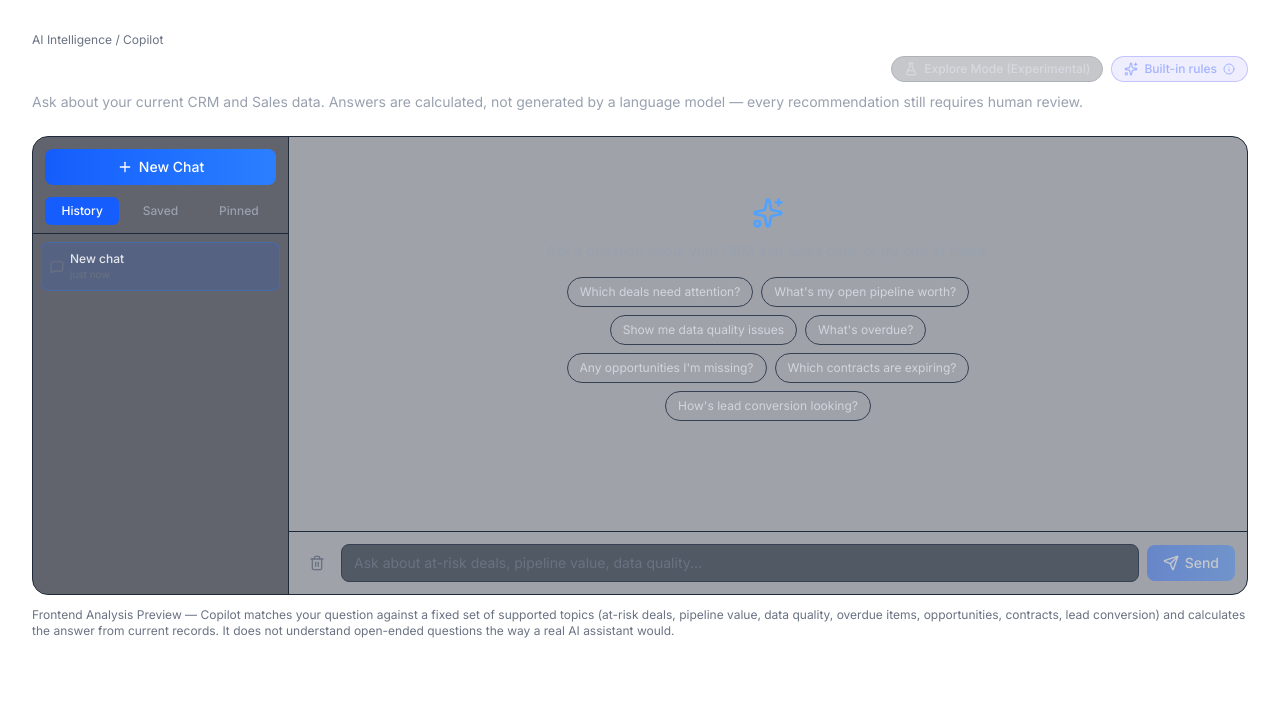
Test: AiCopilot — chat route rendering and behavior › clicking a suggested prompt sends it and shows both the question and an answer
This screenshot has width=1280, height=720.
Click the button "Which deals need attention?": [660, 292] box [567,277,753,307]
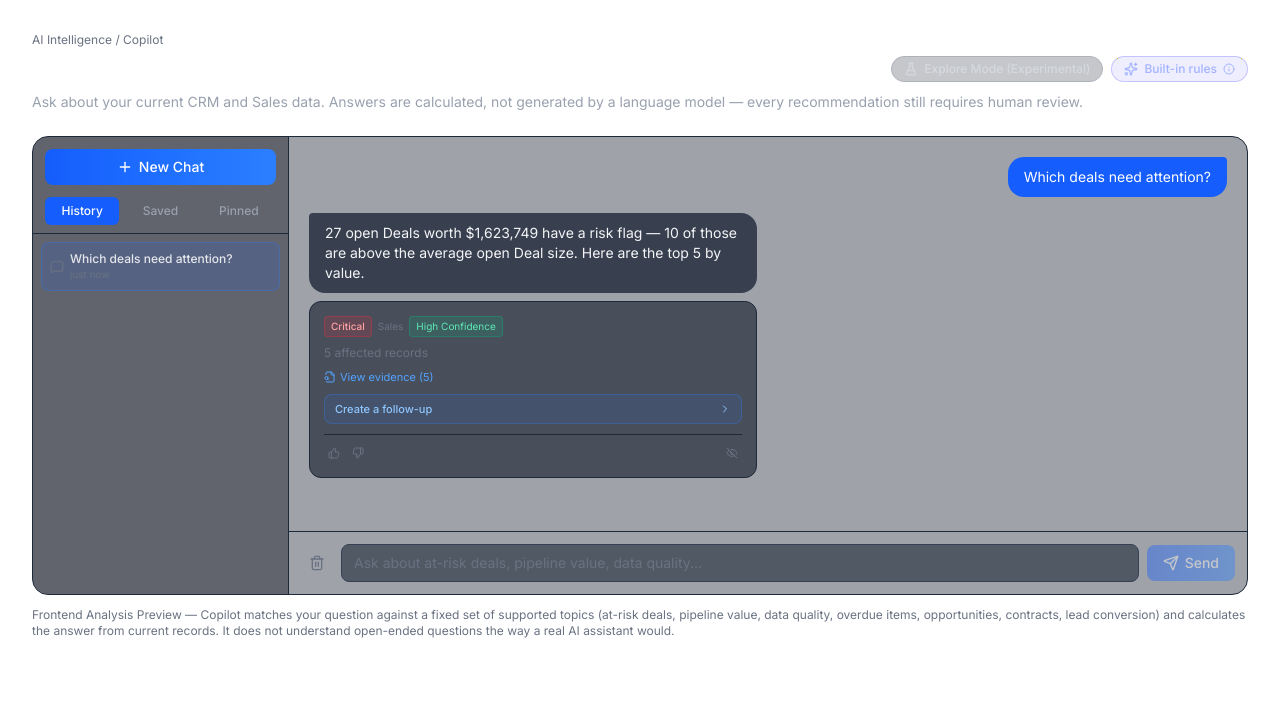
Expected: the 1st text "Which deals need attention?" is shown, [1008,157,1227,197]
